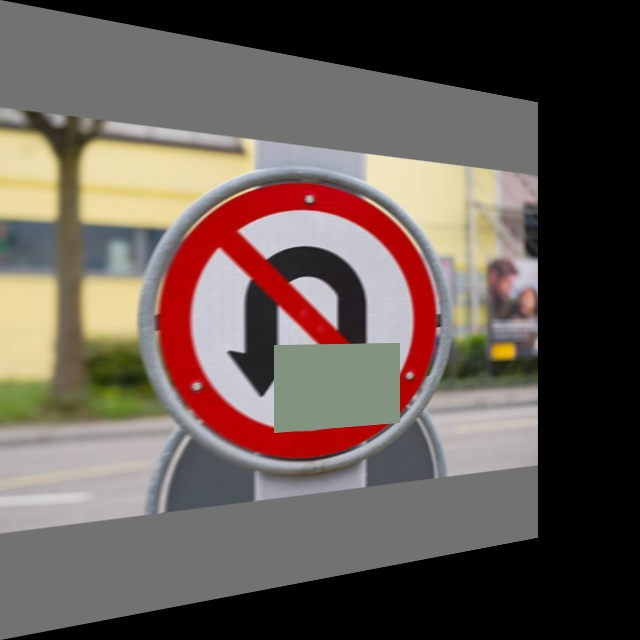U_Turn_Prohibited: (143, 154, 451, 491)
